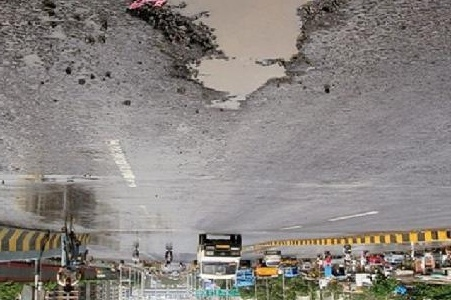pothole: (122, 0, 347, 104)
